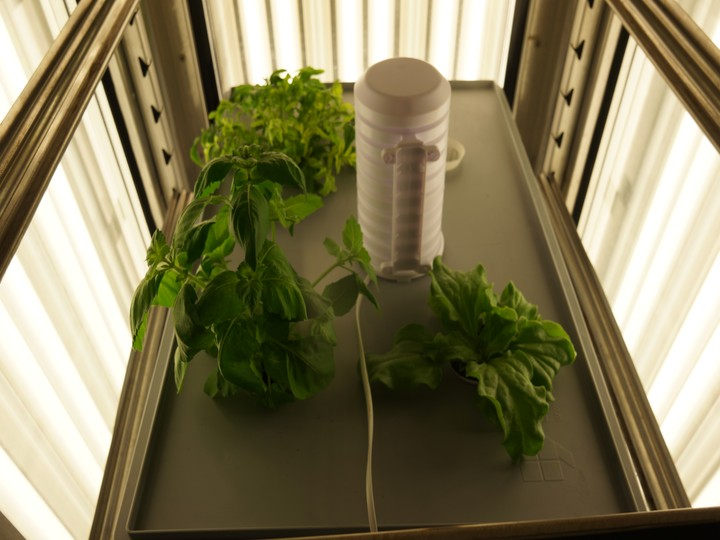basilic_blue_spice: (112, 139, 384, 425)
ficoide_glaciale: (360, 256, 590, 469)
roquette_sauvage_red_veined: (186, 67, 353, 184)
